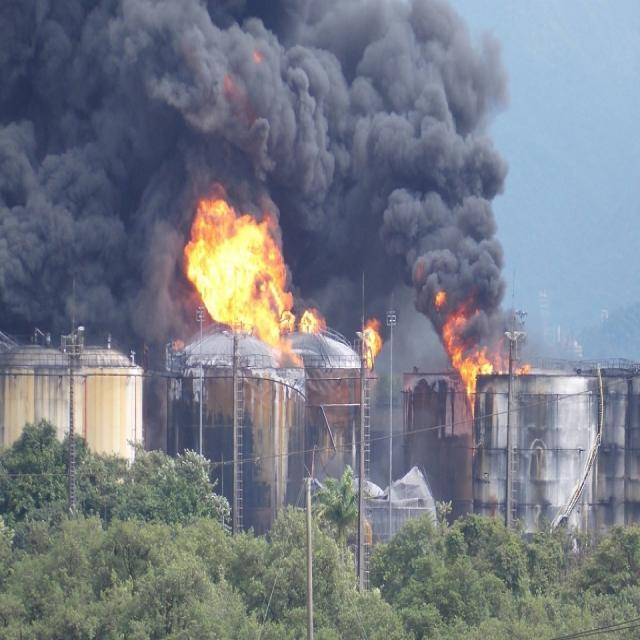Fire: (182, 200, 318, 368), (434, 291, 509, 418), (363, 316, 383, 372), (516, 362, 532, 376)
Smoke: (1, 1, 510, 489)
